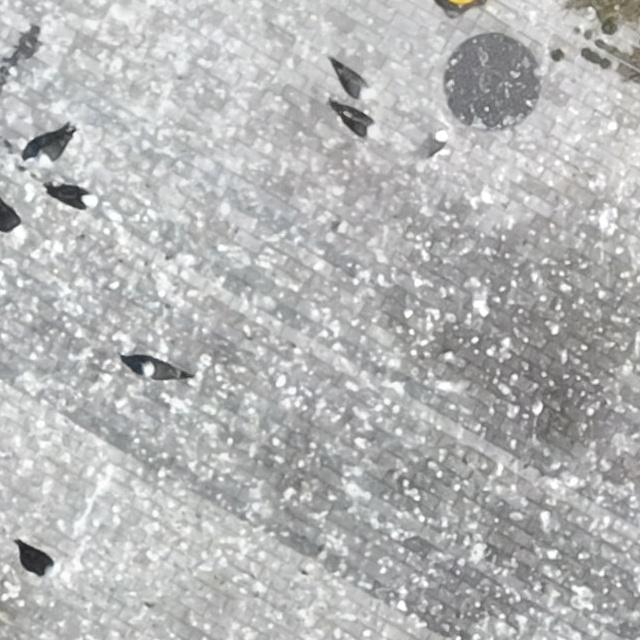umineko: (24, 549, 60, 577), (36, 134, 70, 163), (415, 133, 449, 161), (49, 186, 92, 208), (337, 68, 366, 99), (139, 362, 183, 381), (341, 112, 373, 136), (1, 205, 21, 235)
